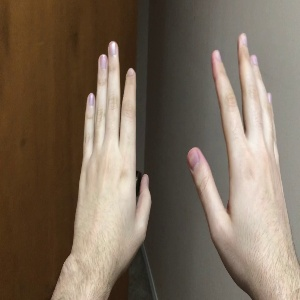hand: (187, 30, 295, 264), (74, 42, 151, 253)
